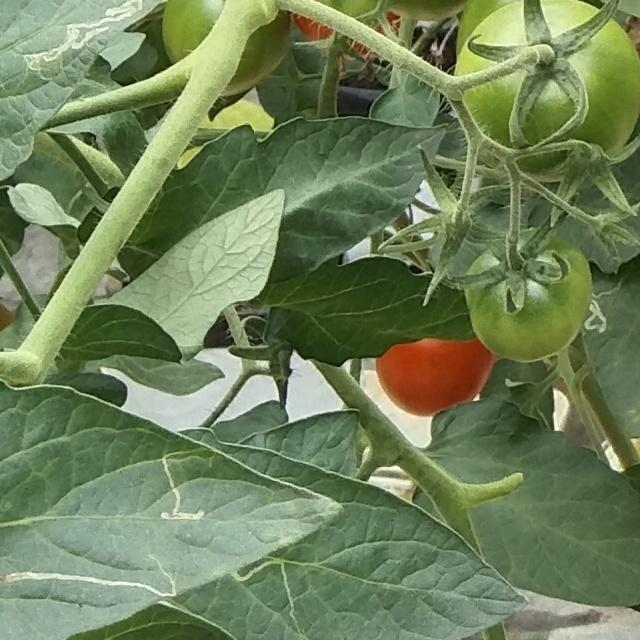Healthy: (118, 108, 447, 286), (430, 392, 640, 613), (268, 252, 475, 369)
Leaf_Miner: (0, 375, 345, 640), (0, 0, 173, 182)
